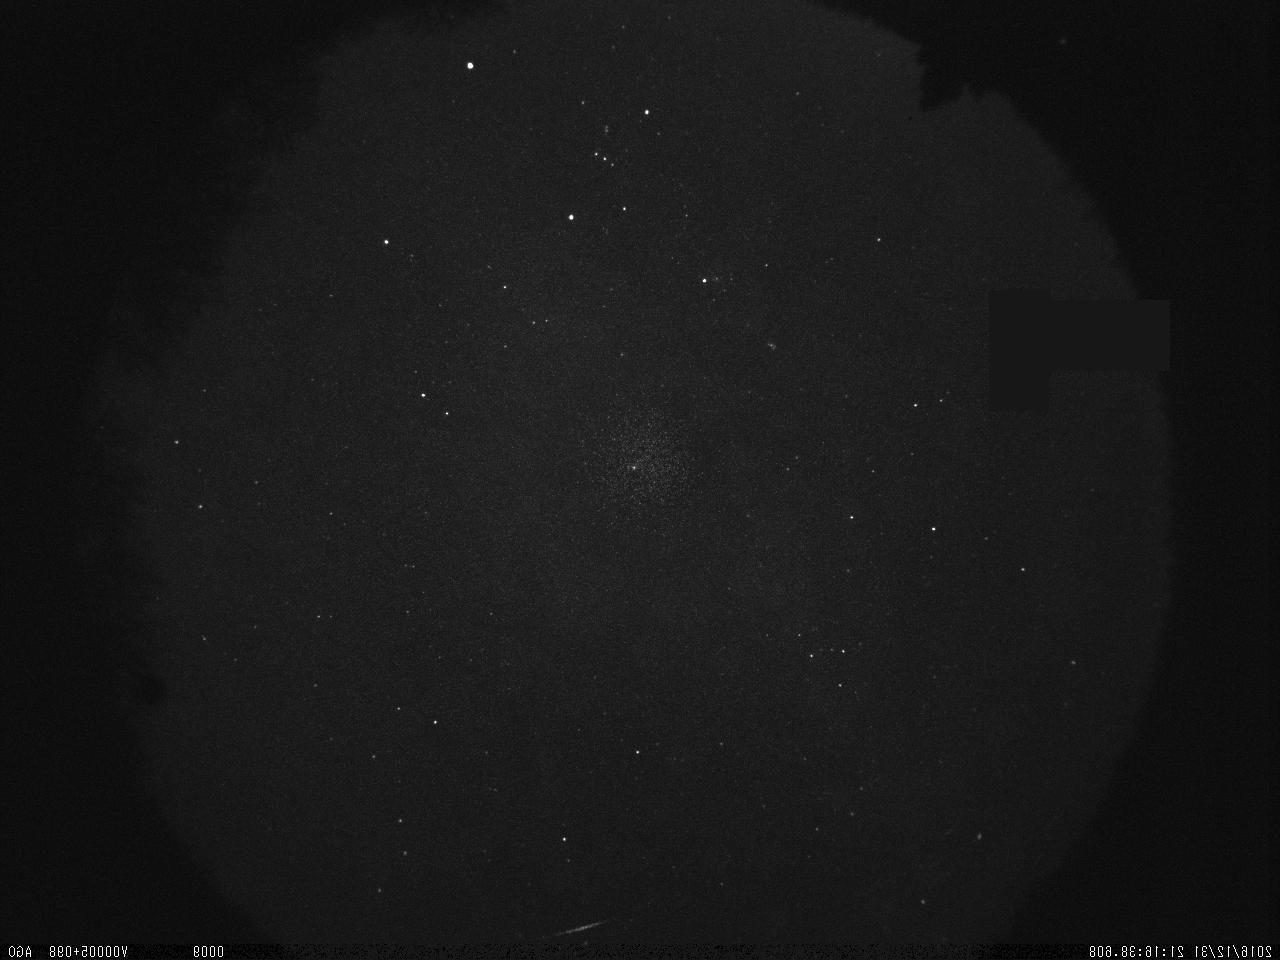meteor: (547, 912, 603, 947)
